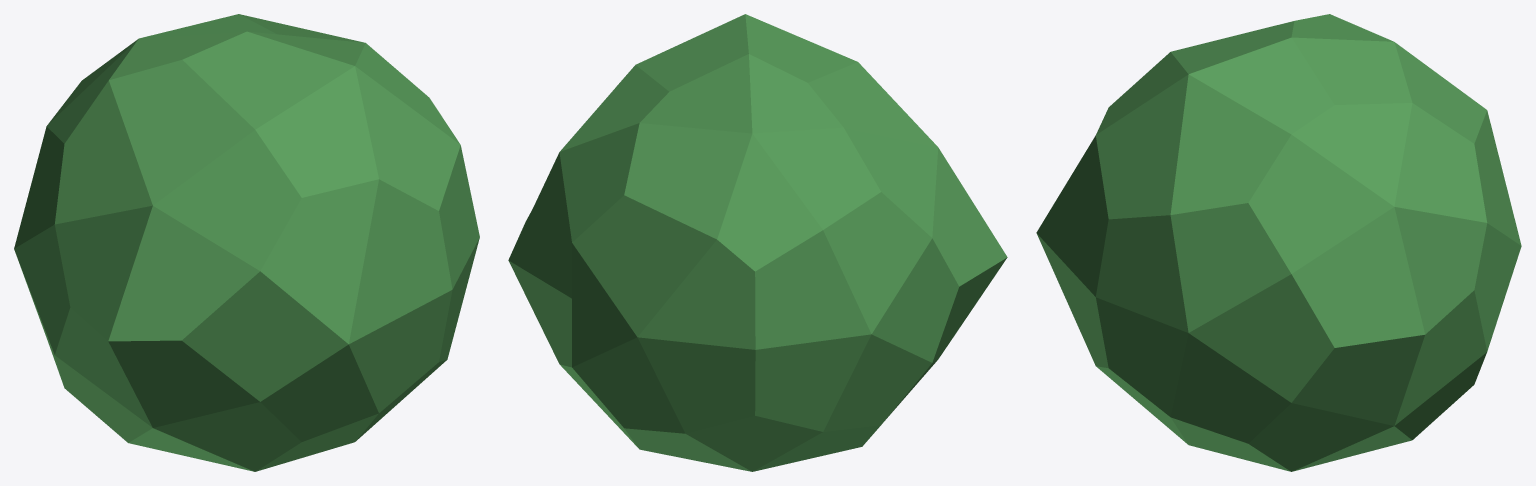
Rendered from Shrub4.fbx.
3 renders of one model, left to right at view 1: azimuth 30°, elevation 25°; view 2: azimuth 150°, elevation 25°; view 3: azimuth 270°, elevation 25°, orthographic. The views are drawn at different scales.
Visible parts, largest first — view 1: Shrub2; view 2: Shrub2; view 3: Shrub2.
Boxes of the visible parts, box(x1,y1,x2,y2) form: Shrub2: box(14, 14, 479, 471); Shrub2: box(508, 14, 1007, 471); Shrub2: box(1036, 14, 1521, 471).
Bounding box in the file's own units: 2.06 × 1.85 × 2.11.
